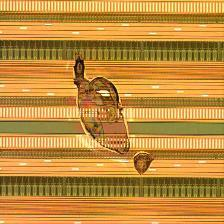COATING BAD: (69, 50, 160, 177)
